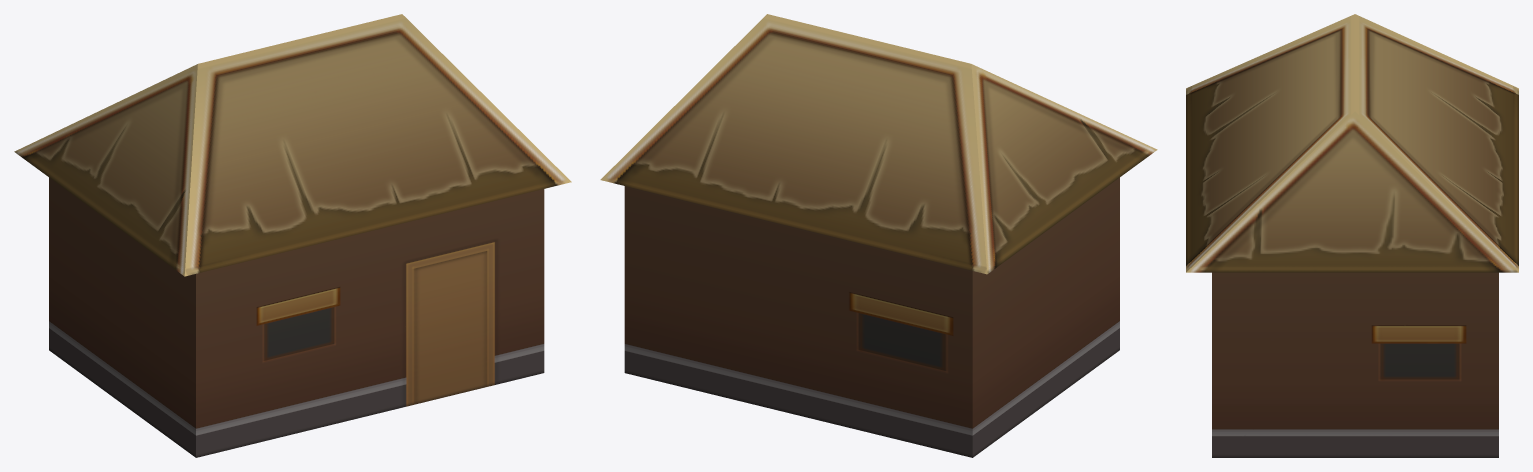
The model's file is Sce_worldmap_bothy_01.FBX.
3 views of the same model, side by side, from view 1: azimuth 30°, elevation 25°; view 2: azimuth 150°, elevation 25°; view 3: azimuth 270°, elevation 25° (orthographic). The views are drawn at different scales.
Visible parts, largest first — view 1: Sec_worldmap_bothy01; view 2: Sec_worldmap_bothy01; view 3: Sec_worldmap_bothy01.
Boxes of the visible parts, left/top/right/bottom form: Sec_worldmap_bothy01: left=14, top=14, right=571, bottom=457; Sec_worldmap_bothy01: left=600, top=14, right=1157, bottom=457; Sec_worldmap_bothy01: left=1186, top=14, right=1518, bottom=457.
Bounding box in the file's own units: 30.9 × 24.54 × 23.56.
